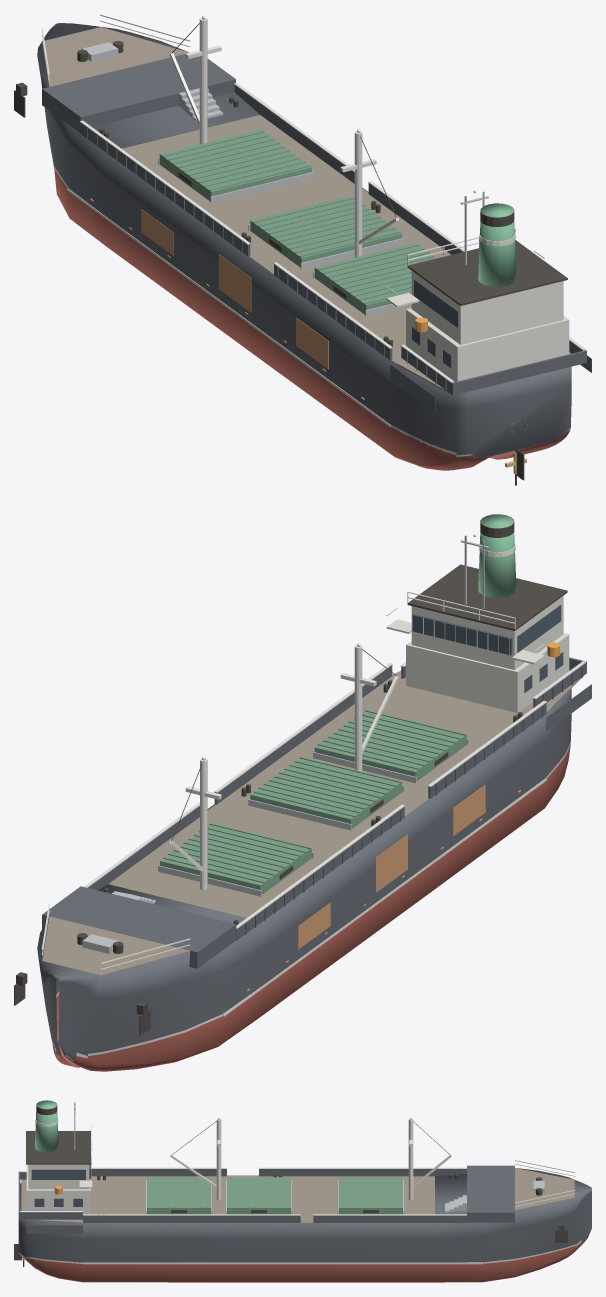
The model's file is coaster.glb.
3 views of the same model, one above another, from view 1: azimuth 30°, elevation 25°; view 2: azimuth 150°, elevation 25°; view 3: azimuth 270°, elevation 25° (orthographic). The views are drawn at different scales.
Visible parts, largest first — view 1: wf_coaster_mesh; view 2: wf_coaster_mesh; view 3: wf_coaster_mesh.
Part boxes in pixels (x1,y1,x2,y2): wf_coaster_mesh: (14,14,591,485); wf_coaster_mesh: (14,514,591,1071); wf_coaster_mesh: (14,1100,591,1282).
Bounding box in the file's own units: 14.24 × 22.62 × 72.2.
